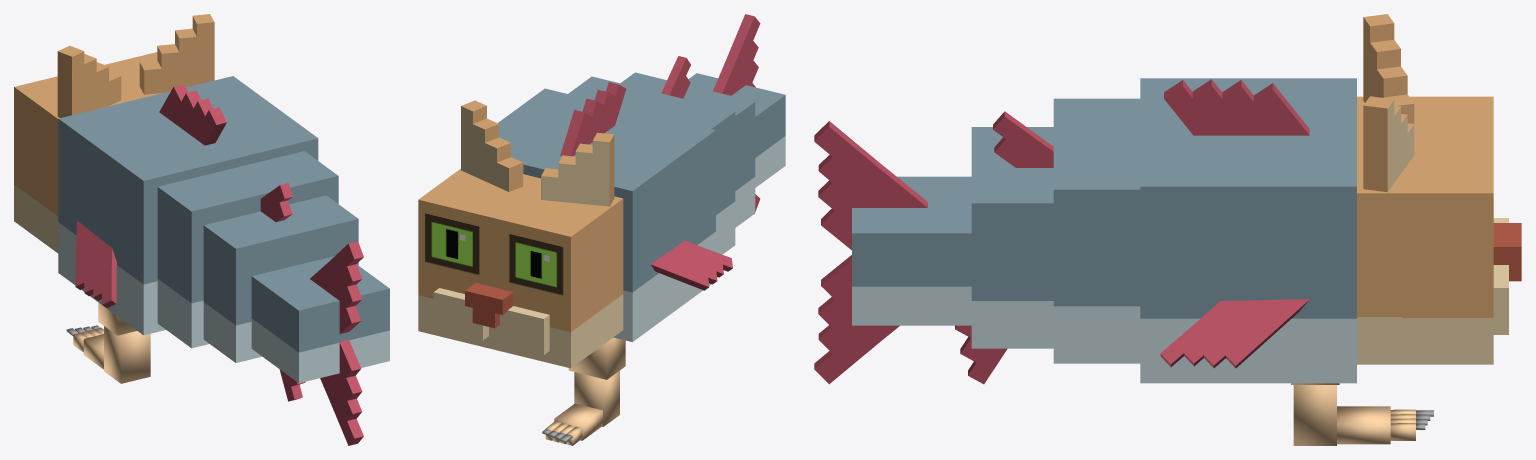
The model's file is Trulimero Trulicina2.fbx.
3 views of the same model, side by side, from view 1: azimuth 30°, elevation 25°; view 2: azimuth 150°, elevation 25°; view 3: azimuth 270°, elevation 25° (orthographic). The views are drawn at different scales.
Visible parts, largest first — view 1: Trulimero Trulicina, Trulimero Trulicina.002, Trulimero Trulicina.003, Trulimero Trulicina.004, Trulimero Trulicina.001; view 2: Trulimero Trulicina, Trulimero Trulicina.004, Trulimero Trulicina.002, Trulimero Trulicina.001, Trulimero Trulicina.003; view 3: Trulimero Trulicina, Trulimero Trulicina.002, Trulimero Trulicina.004, Trulimero Trulicina.003, Trulimero Trulicina.001.
Boxes of the visible parts, bbox=[...] form: Trulimero Trulicina: bbox=[14, 14, 318, 335]; Trulimero Trulicina.002: bbox=[251, 241, 389, 445]; Trulimero Trulicina.003: bbox=[203, 183, 358, 401]; Trulimero Trulicina.004: bbox=[157, 151, 338, 348]; Trulimero Trulicina.001: bbox=[66, 302, 150, 383]; Trulimero Trulicina: bbox=[418, 82, 732, 368]; Trulimero Trulicina.004: bbox=[568, 76, 735, 254]; Trulimero Trulicina.002: bbox=[688, 14, 785, 211]; Trulimero Trulicina.001: bbox=[542, 337, 625, 445]; Trulimero Trulicina.003: bbox=[620, 56, 755, 227]; Trulimero Trulicina: bbox=[1140, 14, 1521, 383]; Trulimero Trulicina.002: bbox=[814, 121, 971, 384]; Trulimero Trulicina.004: bbox=[1053, 98, 1140, 363]; Trulimero Trulicina.003: bbox=[955, 111, 1053, 384]; Trulimero Trulicina.001: bbox=[1291, 383, 1433, 445].
Size of the model in its own units: 409 by 515 by 832.
